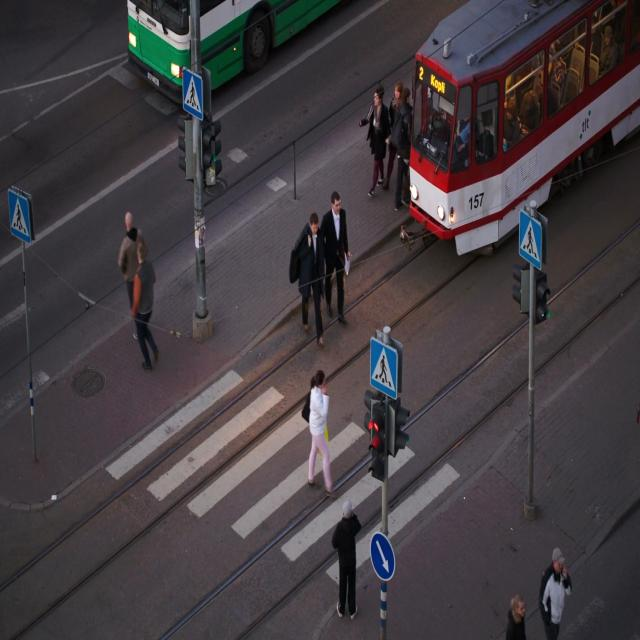pedestrian: (290, 191, 349, 346), (302, 370, 333, 497), (131, 245, 158, 369)
